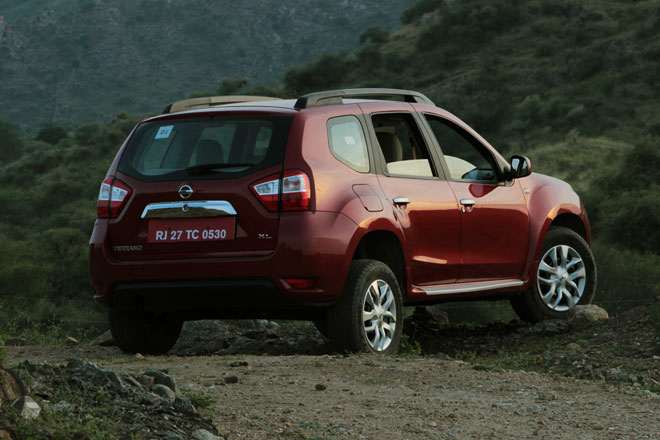number_plate: (141, 216, 241, 246)
